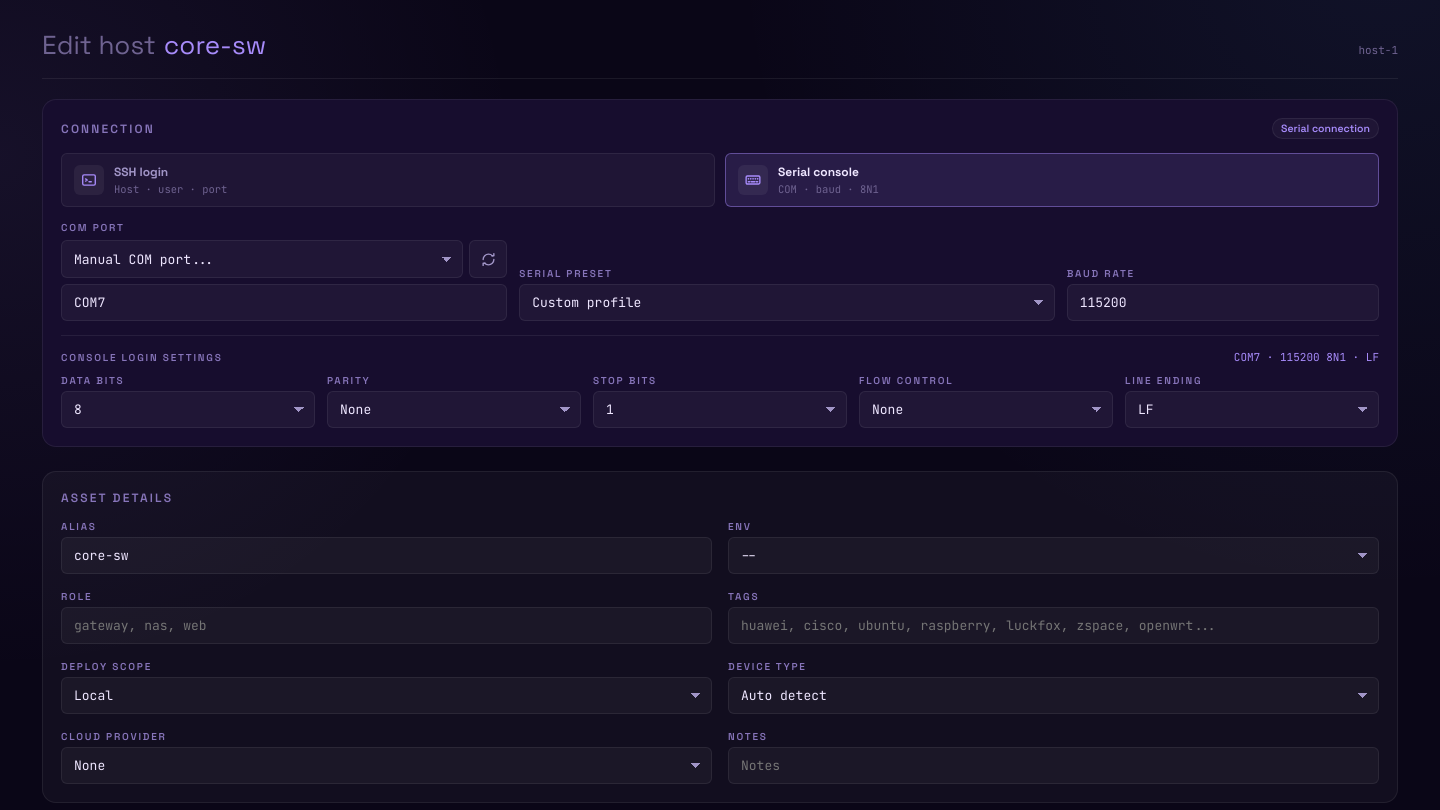
Test: HostEditorFull connection type switching › restores ssh fields when switched back from a serial host
Expected: the dropdown labelled "COM port" shows "Manual COM port...", [61,240,463,278]
Expected: the field named "Manual COM port" holds "COM7", [61,284,507,321]
Click the button "SSH login Host · user · port": (141, 172) [61,153,715,207]
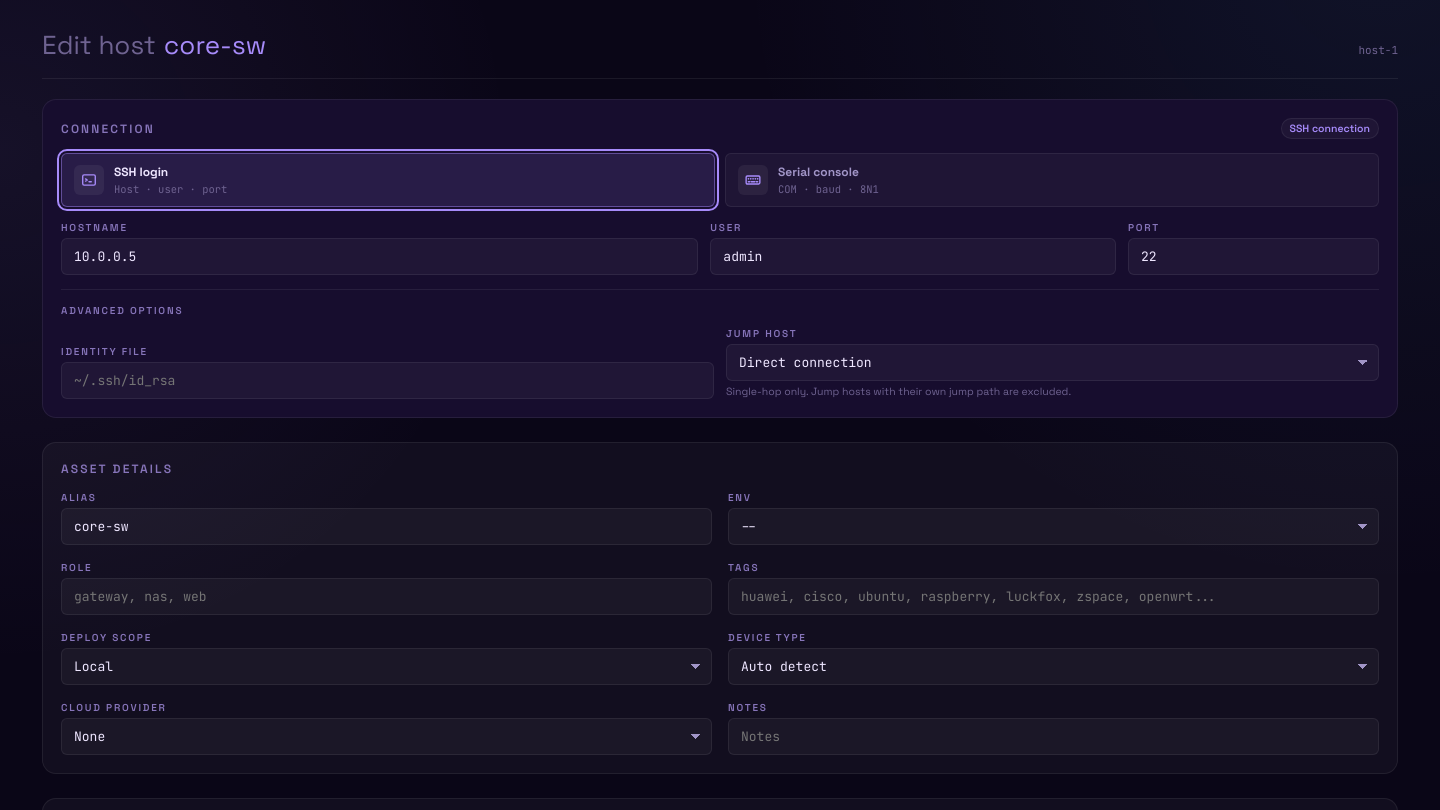
Now the field labelled "Hostname" holds "10.0.0.5", box [61,238,698,275]
Now the field labelled "User" holds "admin", box [710,238,1116,275]
Now the text labelled "COM port" is gone
